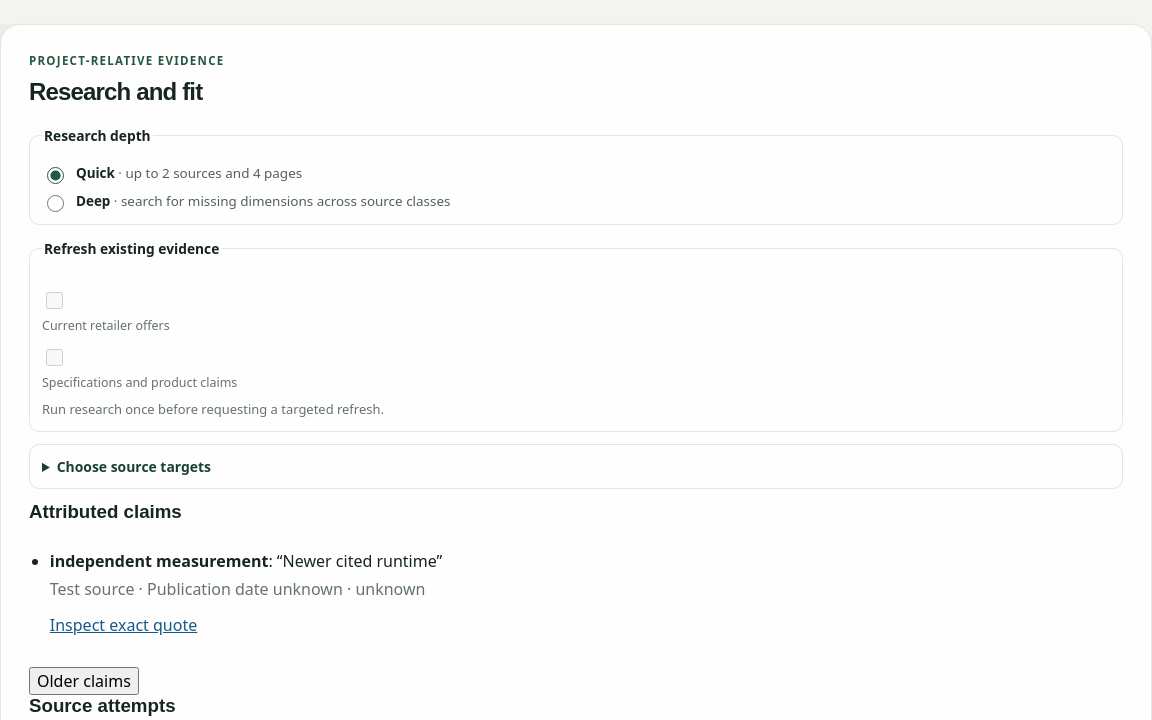
it: pages claims and source attempts beyond the first evidence page
Expected: the list item "Newer cited runtime" is shown, x1=283 y1=550 x2=437 y2=572
Click the button "Older claims": (84, 681) x1=29 y1=667 x2=139 y2=695
(page scrolled)
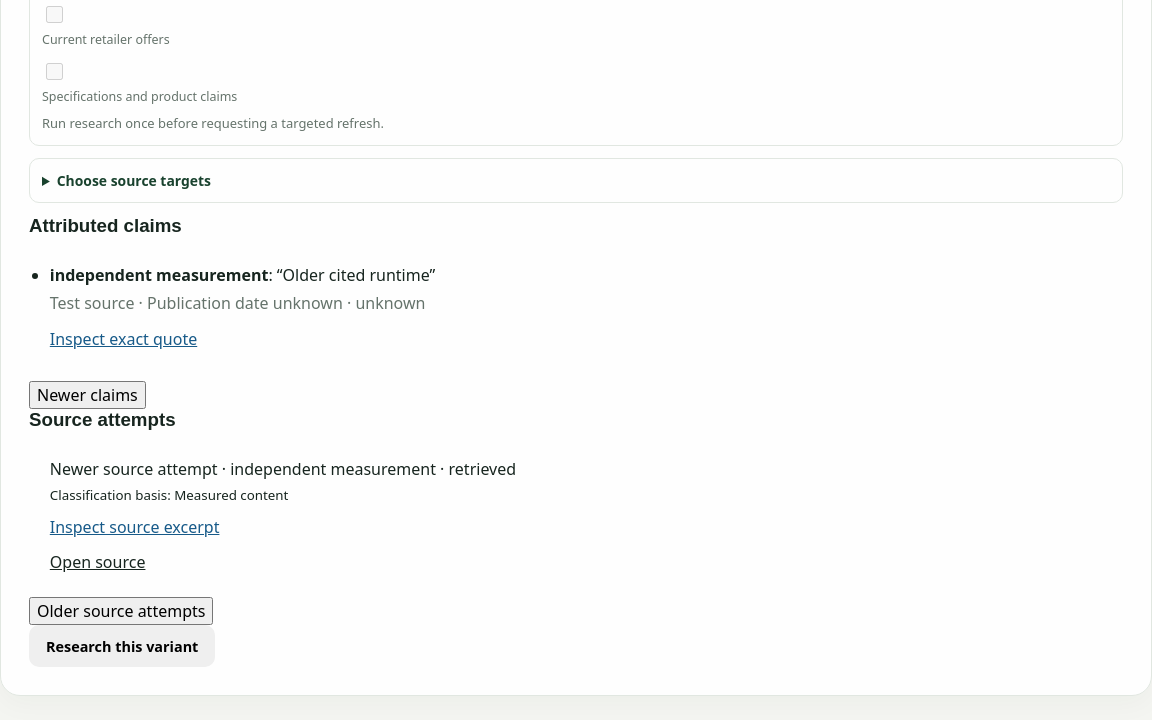
Expected: the list item "Older cited runtime" is shown, x1=283 y1=264 x2=430 y2=286
Click the button "Older source attempts": (121, 611) x1=29 y1=597 x2=213 y2=625
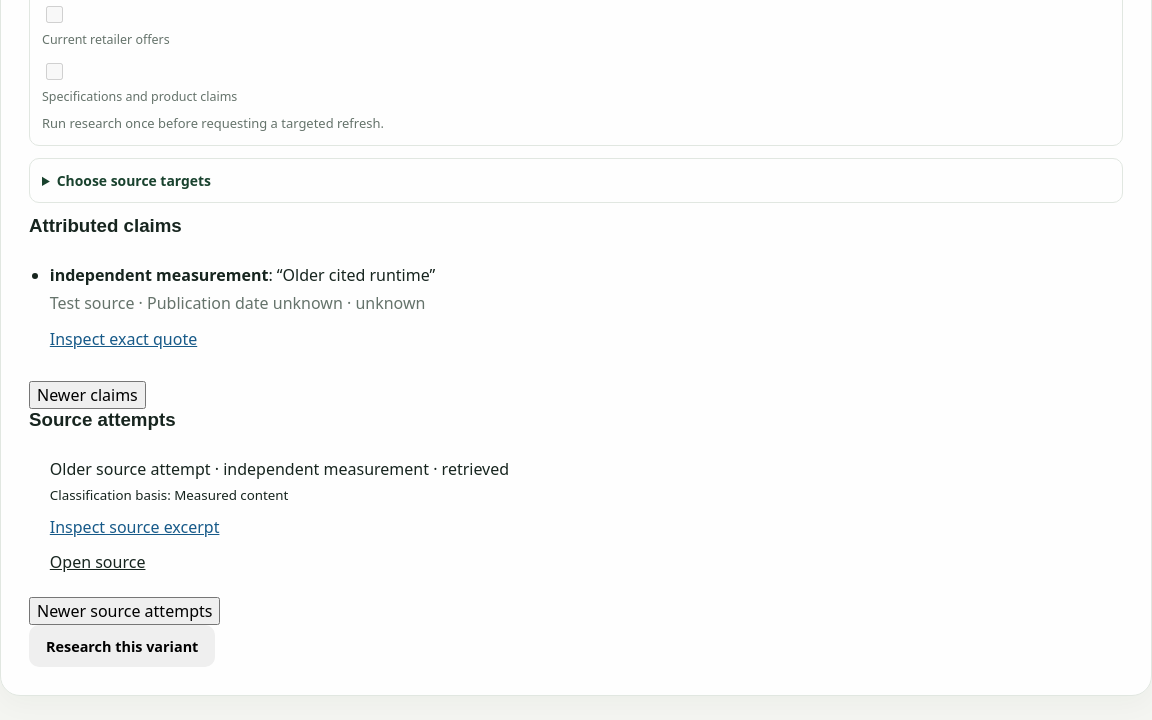
Expected: the text "Older source attempt · independent measurement · retrieved" is shown, x1=50 y1=458 x2=509 y2=480
